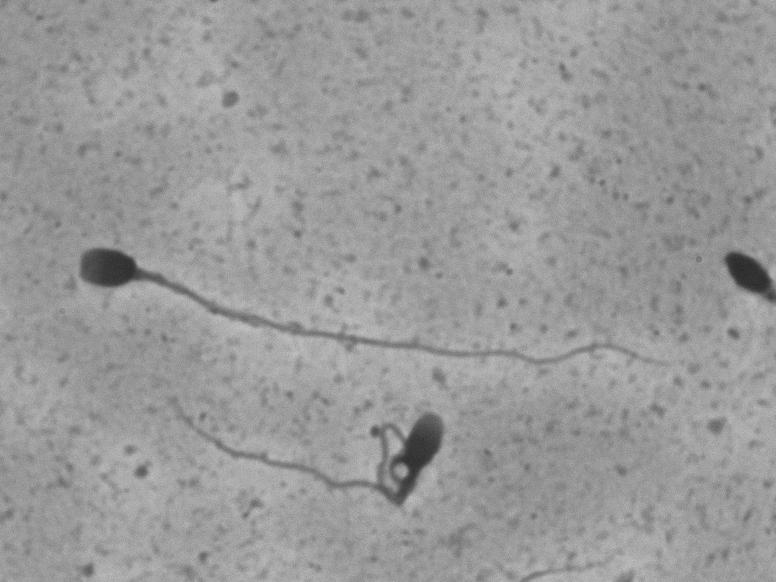Abnormal: (153, 376, 477, 536)
Normal: (51, 186, 703, 388)
